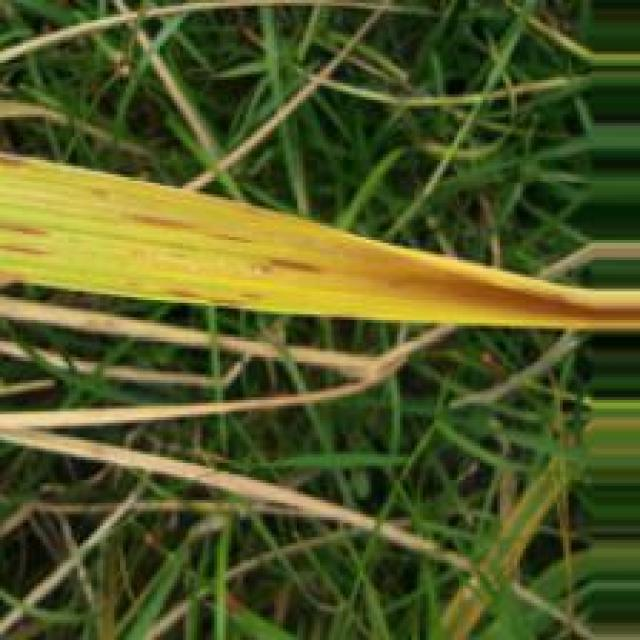Narrow_Brown_Leaf_Spot: (3, 147, 640, 327)
